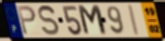5: (61, 5, 83, 37)
9: (107, 5, 125, 36)
I: (128, 4, 142, 38)
M: (76, 4, 110, 37)
P: (16, 5, 38, 37)
S: (37, 4, 61, 37)
